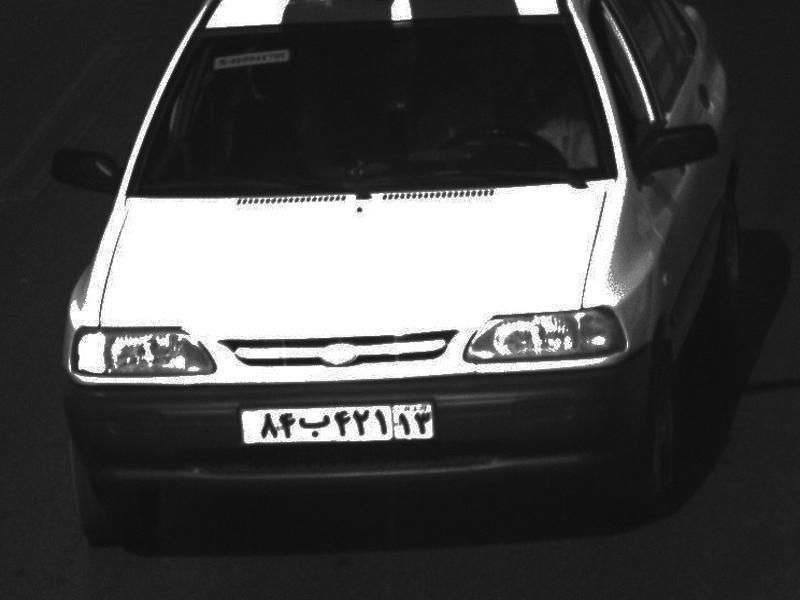Plate: (239, 406, 434, 445)
